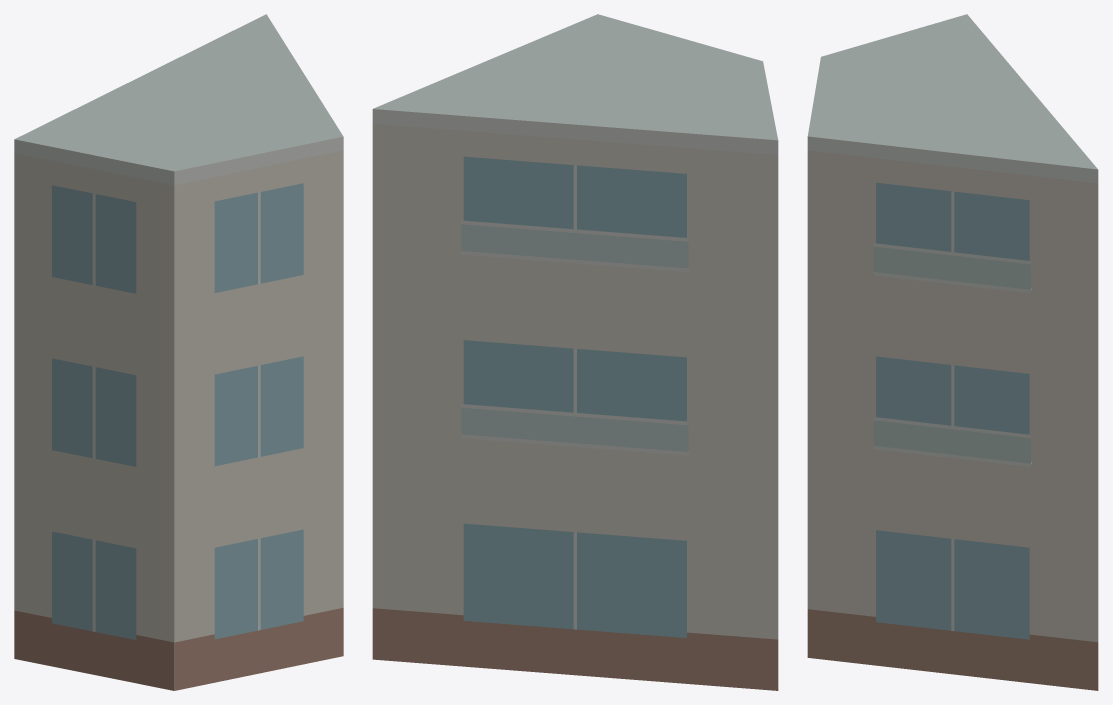
The model's file is survey-upis-32919422.glb.
The picture shows the model from 3 angles, left to right: view 1: azimuth 30°, elevation 25°; view 2: azimuth 150°, elevation 25°; view 3: azimuth 270°, elevation 25°; orthographic projection. The views are drawn at different scales.
Visible parts, largest first — view 1: survey-upis-32919422.tmp; view 2: survey-upis-32919422.tmp; view 3: survey-upis-32919422.tmp.
Boxes of the visible parts, bbox=[...] form: survey-upis-32919422.tmp: bbox=[14, 14, 343, 690]; survey-upis-32919422.tmp: bbox=[372, 14, 778, 690]; survey-upis-32919422.tmp: bbox=[807, 14, 1098, 690].
Size of the model in its own units: 5.86 by 9.15 by 4.64.
